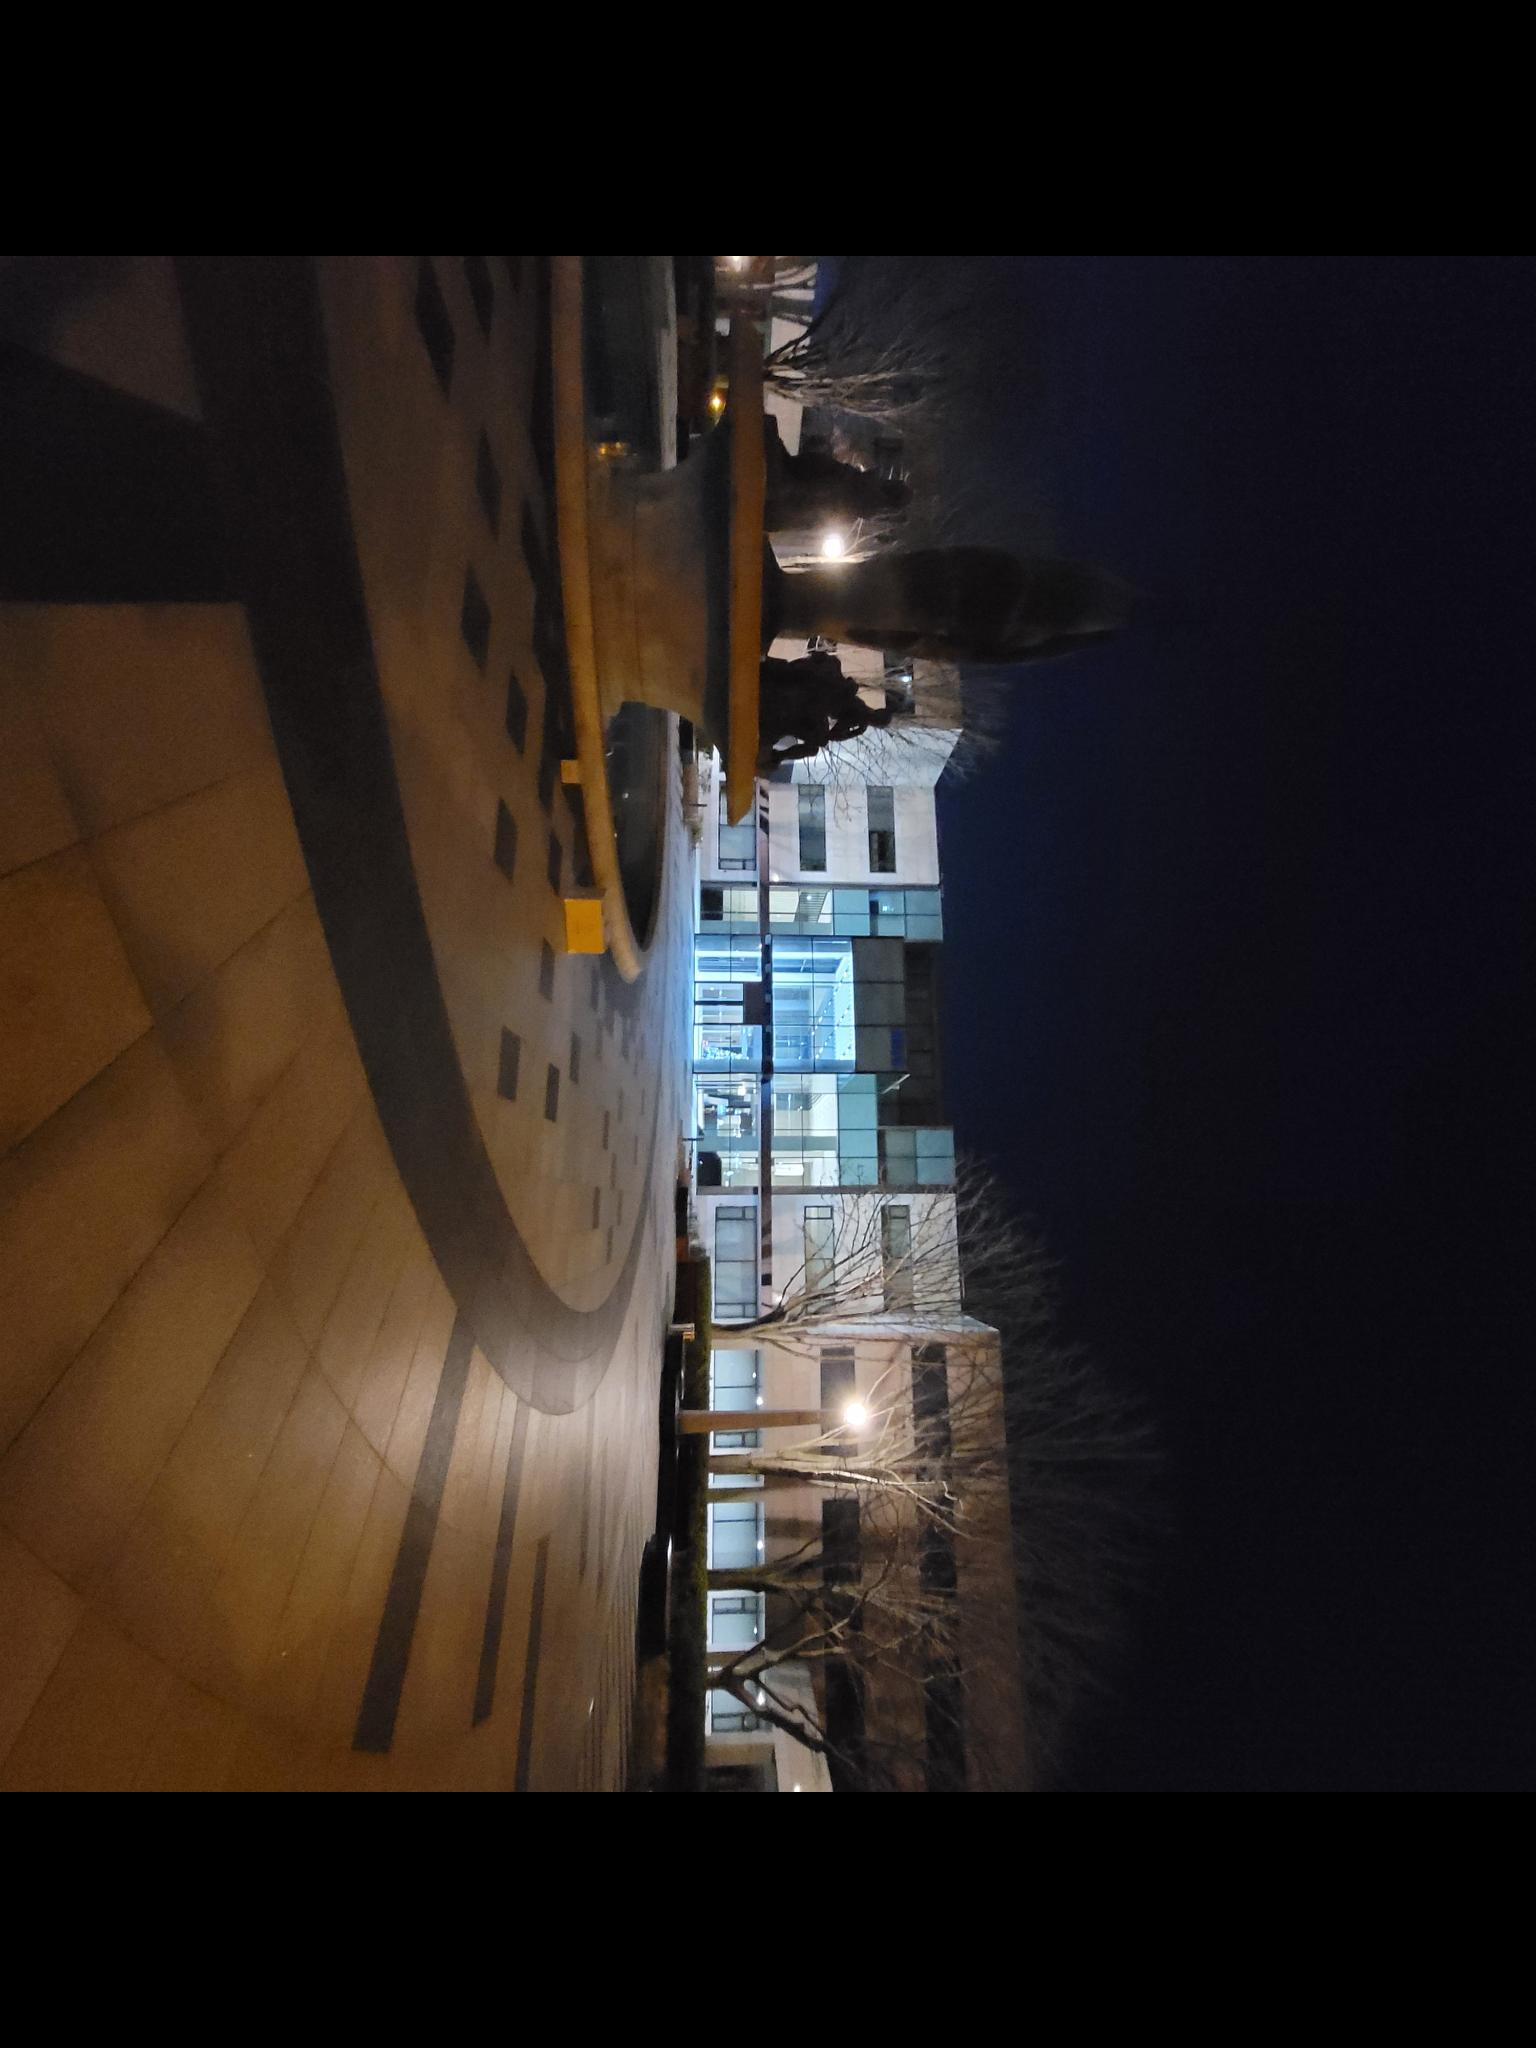Box: (561, 890, 611, 961), (557, 761, 586, 785)
